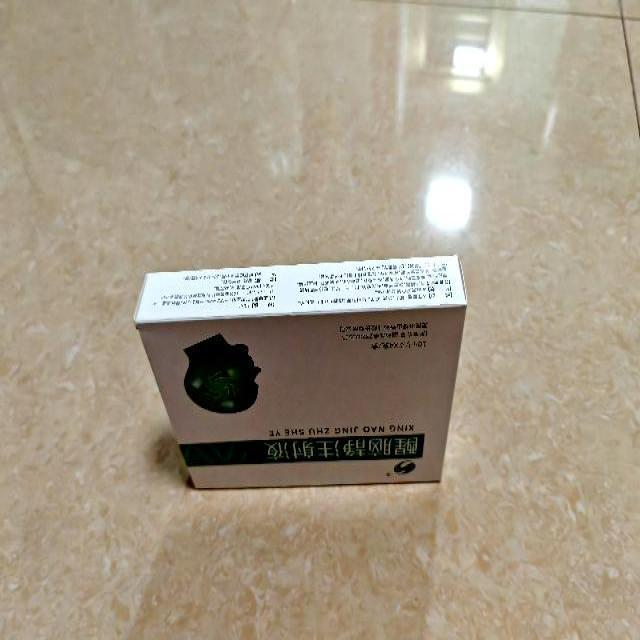box: (135, 254, 468, 490)
